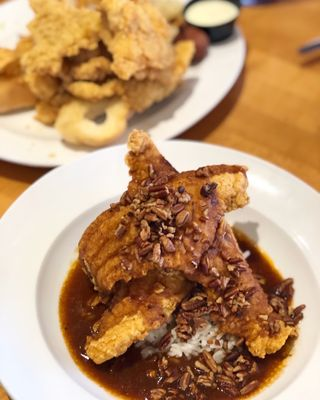curry: (0, 0, 319, 398)
